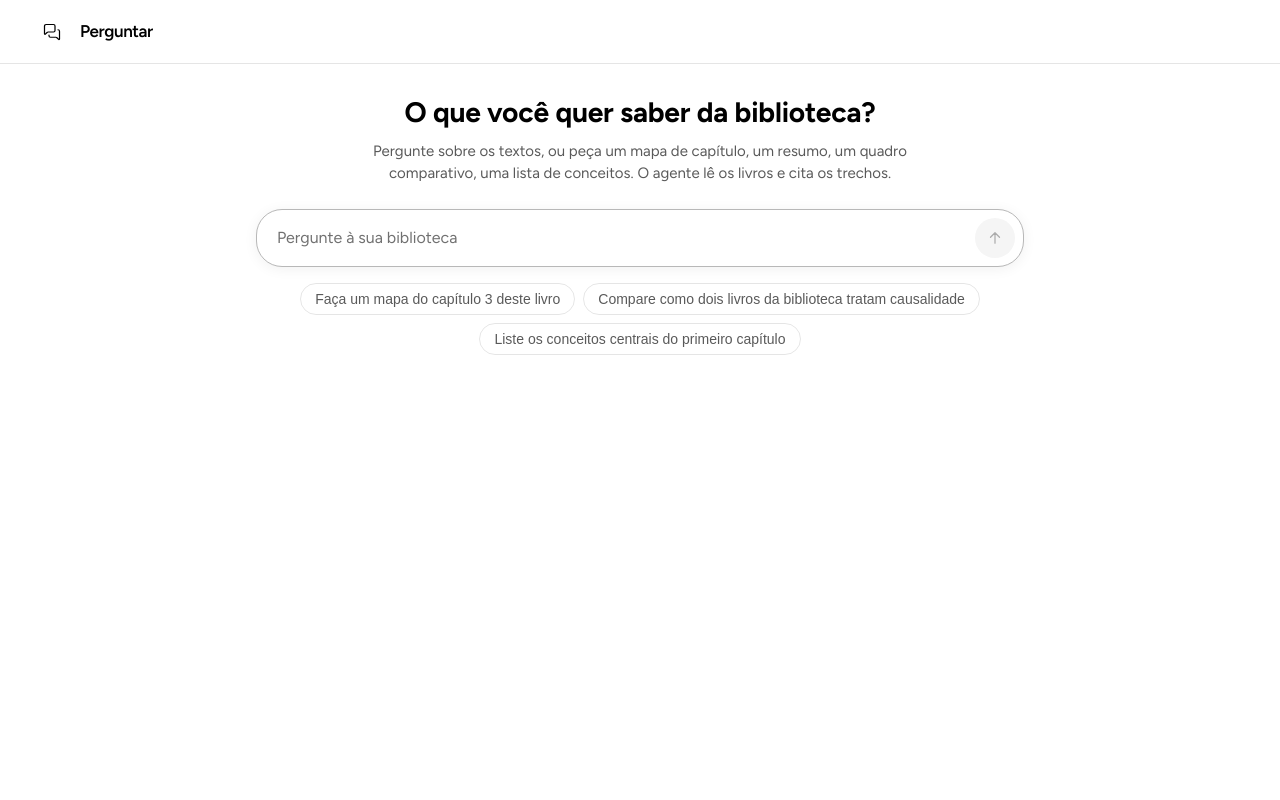
Test: Perguntar como chat (V-U1) › a lista de conversas não fica na página; sem a barra, o botão Conversas abre a gaveta com elas
expect the button "Conversas" is not shown: met
What coordinates should you click on to do the following:
click the button named "Conversas"
I would click on:
 (52, 32)
Its box is [32,12,72,52].
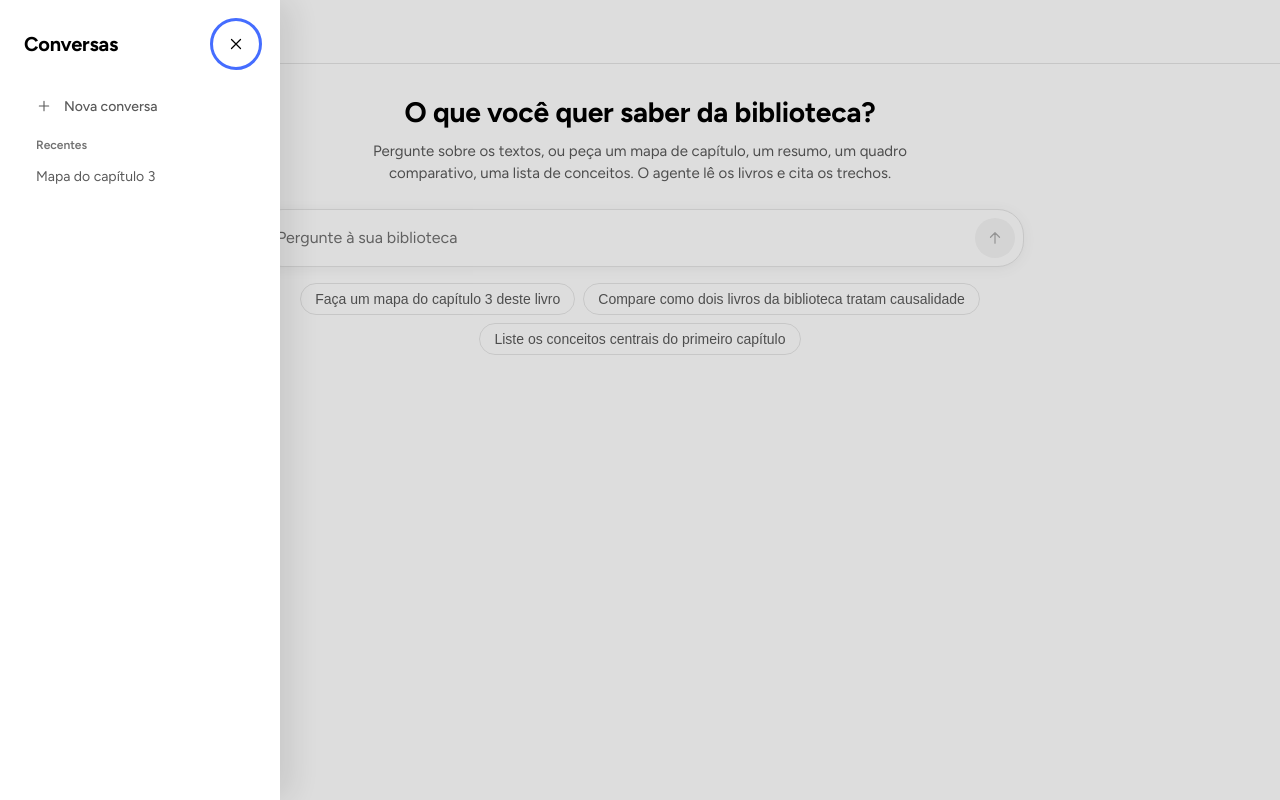
What coordinates should you click on to do the following:
click the link "Mapa do capítulo 3"
I would click on:
 (96, 176)
Its box is [36,168,155,185].
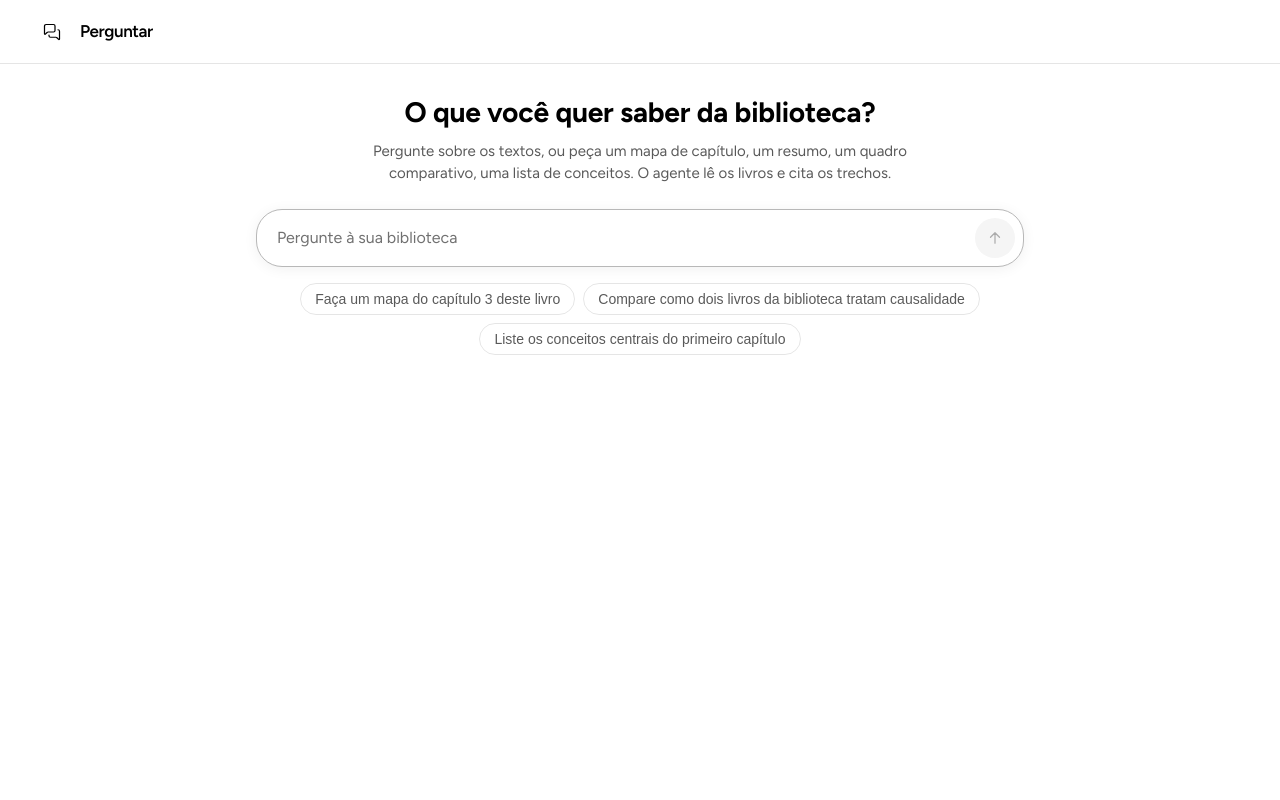
expect the heading "Conversas" is gone: met
